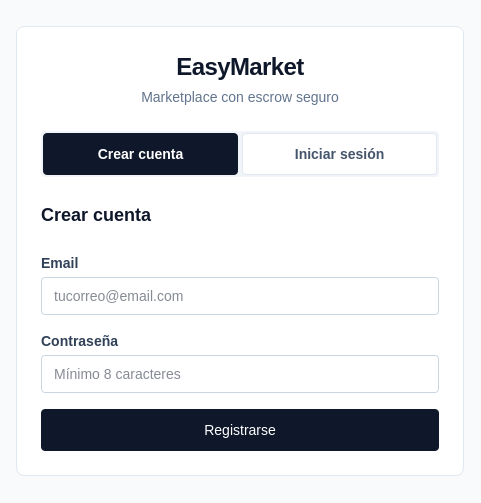
AuthPage (PHA01TSK10) › registro: bloquea el envío y muestra error si el email está vacío
The width and height of the screenshot is (481, 503).
Type "passwordSegura123" into the password field labelled "Contraseña" at coordinates (240, 374), box top-left (41, 355), bottom-right (439, 393)
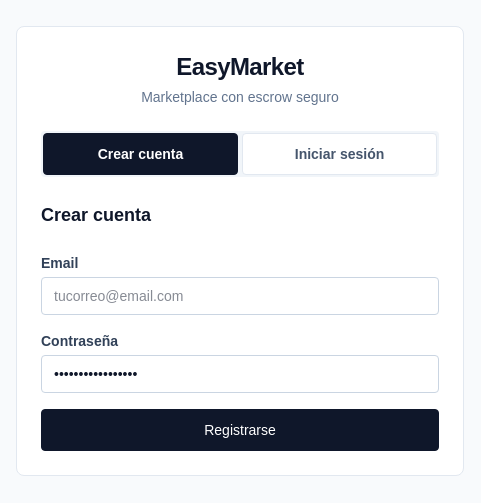
Click the button "Registrarse" at coordinates (240, 430), box top-left (41, 409), bottom-right (439, 451)
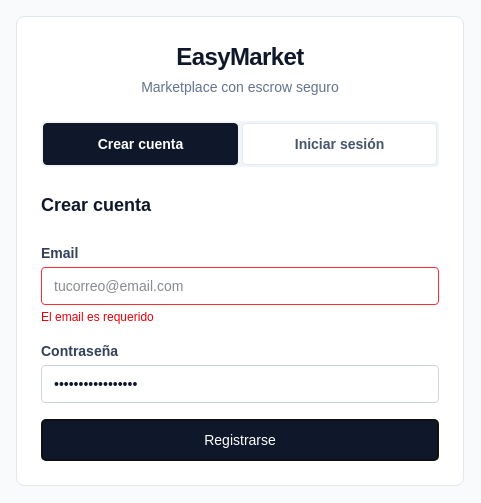
Result: the text "El email es requerido" is shown at top-left (41, 310), bottom-right (154, 324)
